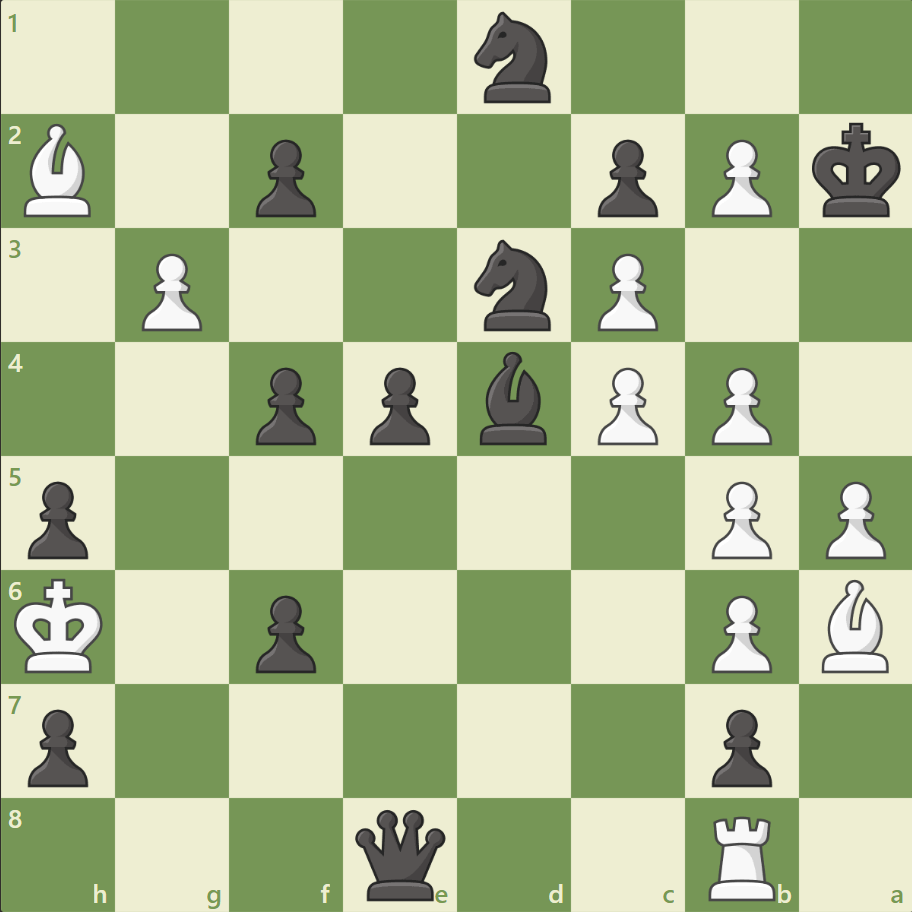B: (812, 574, 896, 676), (17, 120, 101, 222)
K: (11, 571, 111, 679)
P: (701, 586, 776, 677), (701, 473, 776, 564), (701, 359, 776, 450), (133, 246, 208, 337), (701, 132, 776, 223), (815, 473, 889, 564), (588, 359, 662, 450), (588, 246, 662, 337)
R: (700, 806, 783, 904)
b: (471, 347, 555, 449)
k: (806, 117, 906, 225)
n: (465, 234, 562, 337), (465, 7, 562, 110)
p: (701, 700, 776, 791), (20, 700, 95, 791), (247, 586, 322, 677), (20, 473, 95, 564), (247, 359, 322, 450), (247, 132, 322, 223), (361, 359, 435, 450), (588, 132, 662, 223)
q: (351, 804, 450, 903)
